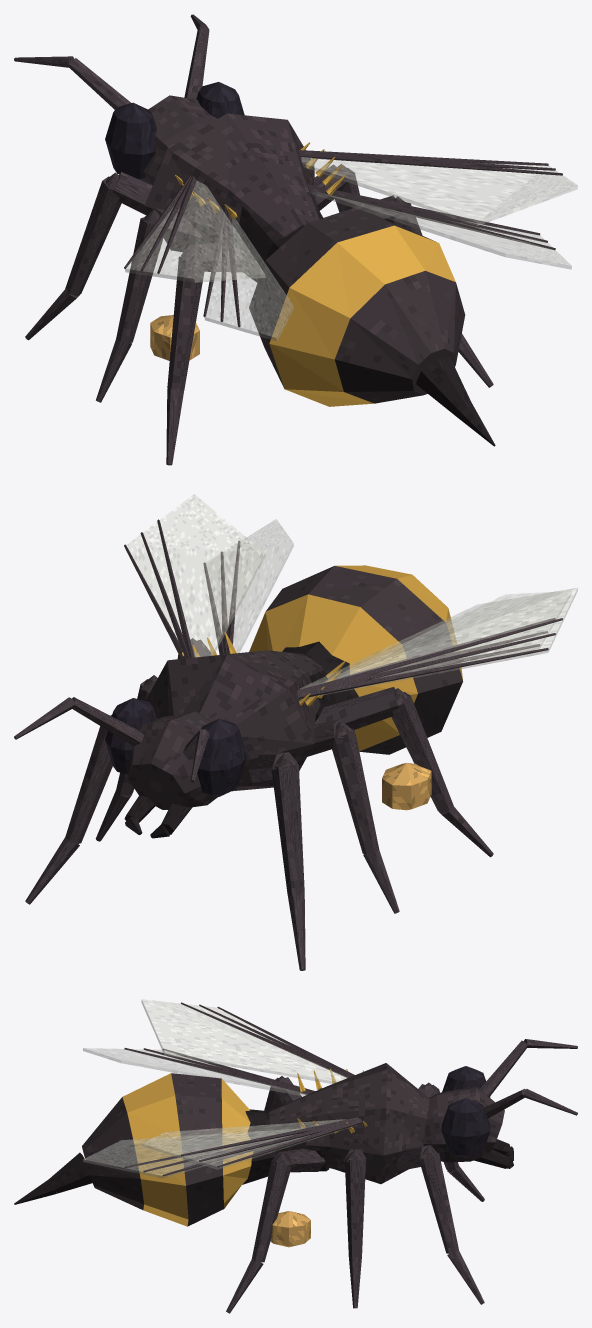
The model's file is mon_bee.glb.
3 views of the same model, one above another, from view 1: azimuth 30°, elevation 25°; view 2: azimuth 150°, elevation 25°; view 3: azimuth 270°, elevation 25° (orthographic). The views are drawn at different scales.
Visible parts, largest first — view 1: closed_body, glazing; view 2: closed_body, glazing; view 3: closed_body, glazing.
Part boxes in pixels (<box>): closed_body: <box>14,14,562,465</box>; glazing: <box>125,157,577,341</box>; closed_body: <box>14,519,562,970</box>; glazing: <box>125,494,577,699</box>; closed_body: <box>14,1002,577,1313</box>; glazing: <box>83,999,357,1178</box>.
Bounding box in the file's own units: 1.01 × 0.5555 × 1.51.
Materials: 2 (2 with a texture image).
